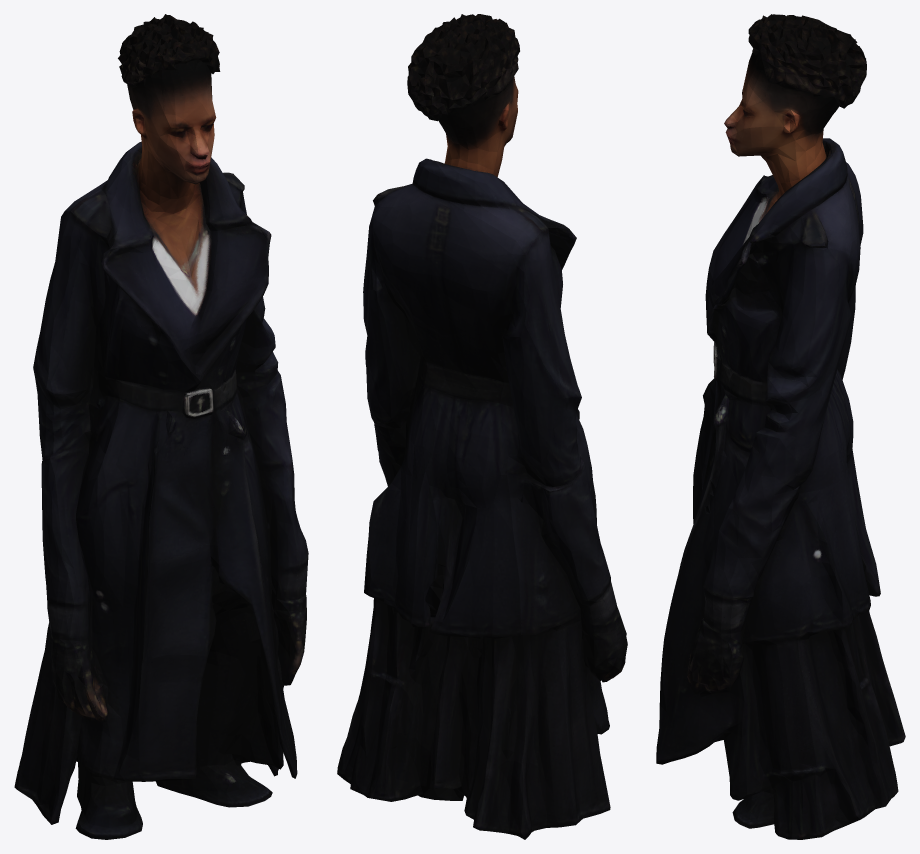
The model's file is misty_knight.glb.
3 views of the same model, side by side, from view 1: azimuth 30°, elevation 25°; view 2: azimuth 150°, elevation 25°; view 3: azimuth 270°, elevation 25° (orthographic).
Visible parts, largest first — view 1: world; view 2: world; view 3: world.
Boxes of the visible parts, box(x1,y1,x2,y2) form: world: box(14, 14, 308, 839); world: box(337, 14, 627, 839); world: box(656, 14, 905, 839).
Size of the model in its own units: 0.3328 by 0.9994 by 0.2941.
1 material, 1 textured.
